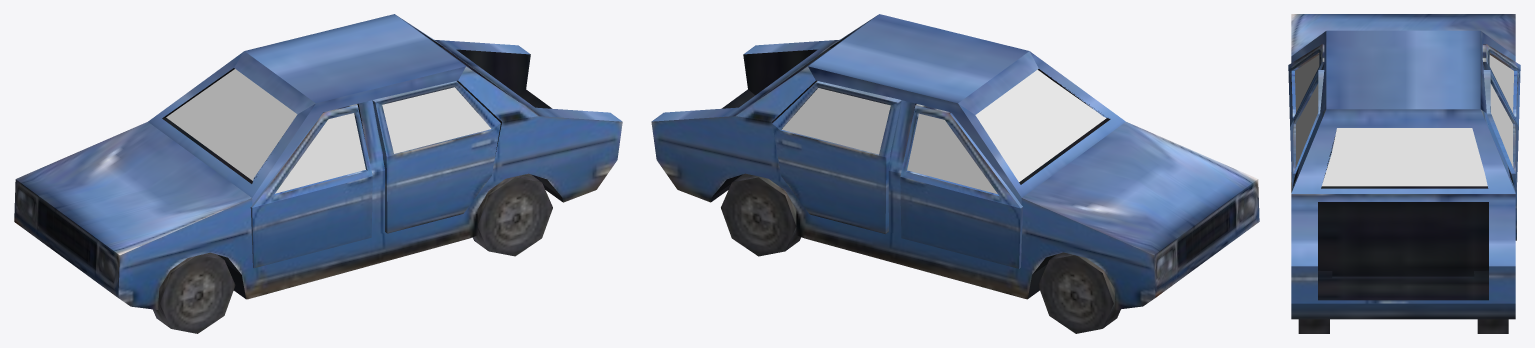
The model's file is free_car.glb.
The picture shows the model from 3 angles, left to right: view 1: azimuth 30°, elevation 25°; view 2: azimuth 150°, elevation 25°; view 3: azimuth 270°, elevation 25°; orthographic projection. The views are drawn at different scales.
Parts seen in each view (by area): view 1: Auto.002, Auto.003, Auto.004, Cylinder.043, Cylinder.044; view 2: Auto.002, Auto.005, Auto.006, Cylinder.046, Cylinder.047; view 3: Auto.002, Auto.005, Auto.006, Auto.004, Auto.003, Cylinder.043, Cylinder.046.
Boxes of the visible parts, box(x1,y1,x2,y2) form: Auto.002: box(14, 14, 622, 309); Auto.003: box(372, 81, 500, 233); Auto.004: box(250, 104, 372, 268); Cylinder.043: box(472, 173, 552, 256); Cylinder.044: box(152, 252, 235, 333); Auto.002: box(651, 14, 1259, 309); Auto.005: box(772, 81, 901, 233); Auto.006: box(900, 104, 1023, 268); Cylinder.046: box(721, 173, 801, 256); Cylinder.047: box(1038, 252, 1120, 333); Auto.002: box(1291, 14, 1515, 319); Auto.005: box(1483, 70, 1516, 240); Auto.006: box(1482, 44, 1520, 189); Auto.004: box(1288, 44, 1324, 188); Auto.003: box(1292, 70, 1324, 187); Cylinder.043: box(1298, 319, 1329, 333); Cylinder.046: box(1477, 319, 1508, 333).
Size of the model in its own units: 7.33 by 2.63 by 2.71.
5 materials, 4 textured.
